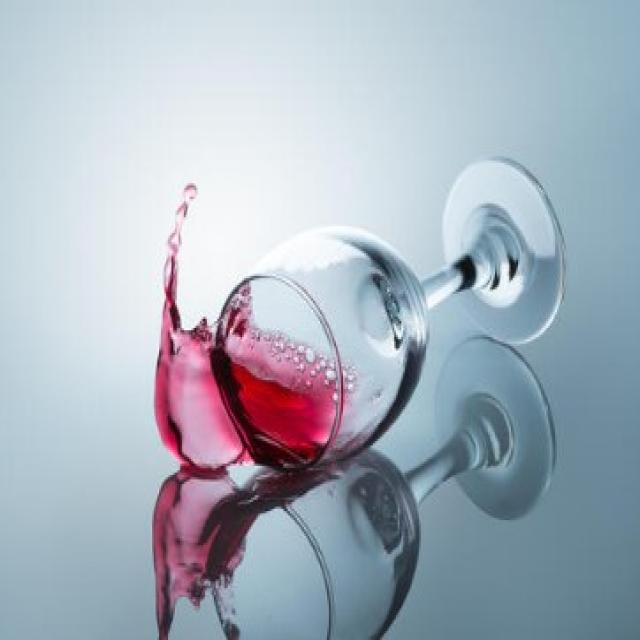electronic: (211, 149, 572, 483)
